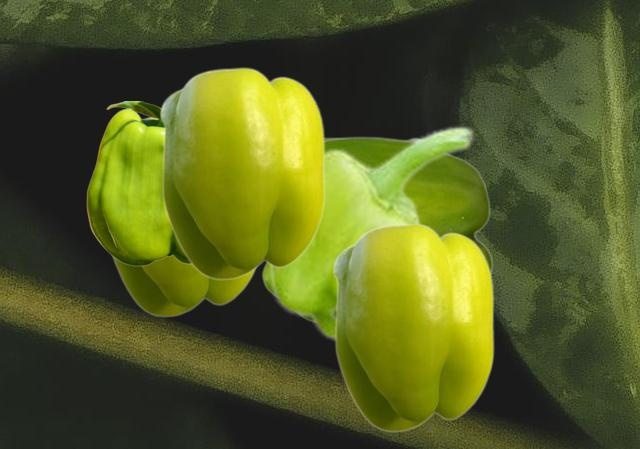bell_pepper: (268, 124, 474, 342), (302, 136, 492, 322), (159, 66, 324, 279), (332, 222, 493, 431), (111, 117, 256, 316), (86, 101, 189, 265)
